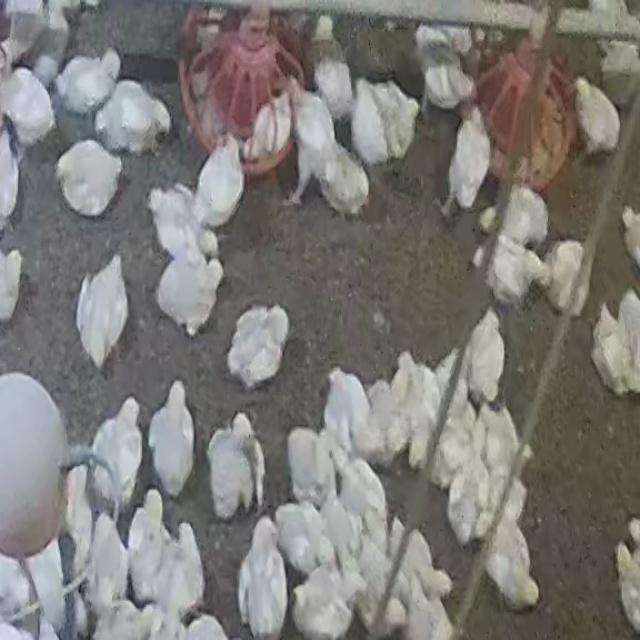chicken: (86, 398, 143, 520), (236, 515, 289, 639), (391, 352, 445, 470), (75, 254, 129, 370), (154, 248, 222, 338), (351, 80, 420, 168), (85, 502, 133, 628), (208, 413, 268, 512), (91, 78, 169, 154), (147, 183, 214, 269), (282, 82, 330, 202), (413, 24, 476, 114), (126, 496, 174, 613), (146, 380, 194, 496), (306, 12, 356, 122), (55, 139, 123, 219), (289, 558, 355, 640), (226, 307, 289, 391), (443, 104, 493, 208), (322, 368, 373, 469), (455, 311, 507, 410), (275, 498, 340, 576), (484, 408, 530, 518), (25, 534, 74, 637), (592, 292, 640, 396), (484, 519, 537, 612), (472, 237, 544, 305), (331, 452, 387, 539), (394, 528, 456, 606), (193, 137, 246, 227), (3, 67, 57, 147), (361, 379, 408, 470), (55, 48, 119, 114), (432, 403, 478, 493), (572, 77, 622, 157), (170, 517, 207, 622), (286, 428, 334, 508), (494, 184, 550, 252), (542, 240, 590, 318), (64, 465, 95, 579), (244, 88, 291, 163), (318, 144, 369, 212), (3, 3, 51, 71), (449, 465, 490, 540), (0, 122, 22, 226), (0, 245, 23, 322), (620, 206, 640, 276)
